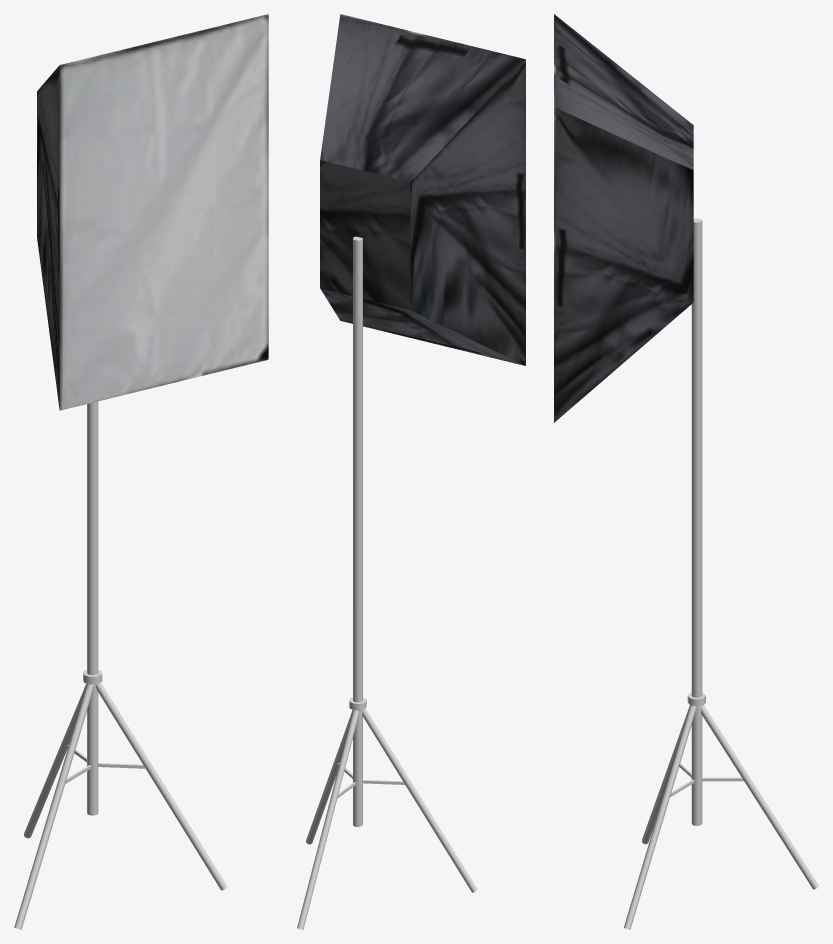
The model's file is softbox.FBX.
3 renders of one model, left to right at view 1: azimuth 30°, elevation 25°; view 2: azimuth 150°, elevation 25°; view 3: azimuth 270°, elevation 25°, orthographic. The views are drawn at different scales.
Parts seen in each view (by area): view 1: softbox_panel, softbox_pole; view 2: softbox_panel, softbox_pole; view 3: softbox_panel, softbox_pole.
Boxes of the visible parts, x1,y1,x2,y2 form: softbox_panel: (37, 14, 268, 410); softbox_pole: (14, 401, 227, 929); softbox_panel: (320, 14, 525, 365); softbox_pole: (297, 236, 477, 929); softbox_panel: (554, 14, 693, 422); softbox_pole: (624, 218, 818, 929).
Size of the model in its own units: 39.36 by 163 by 47.25.
